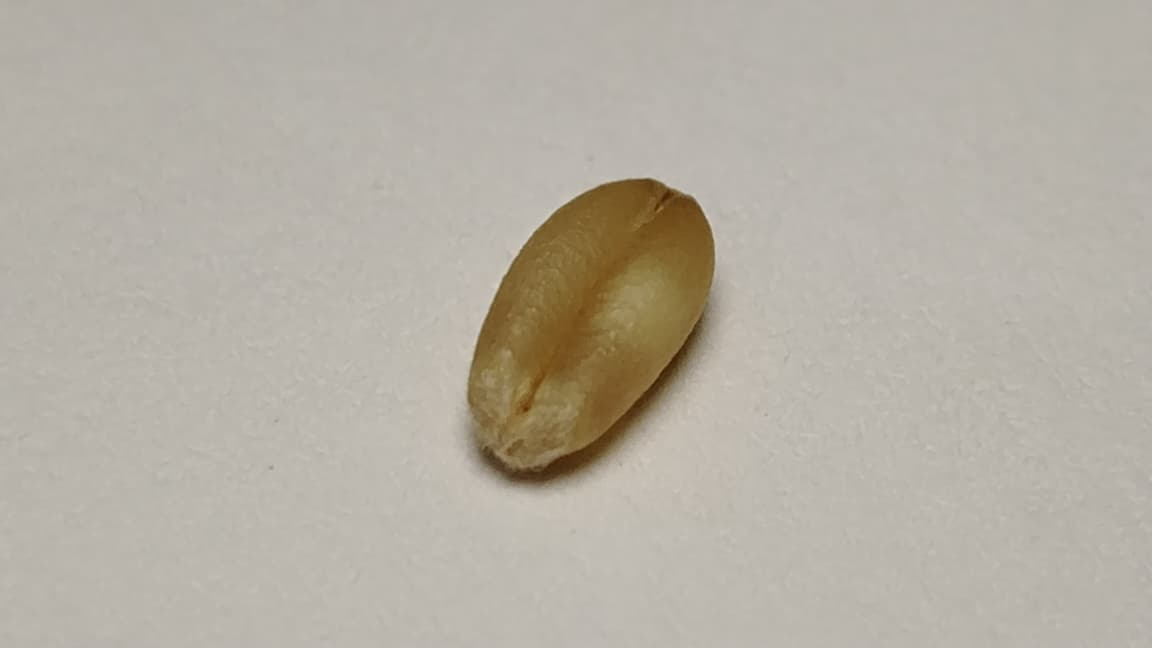healthy: (468, 179, 713, 468)
